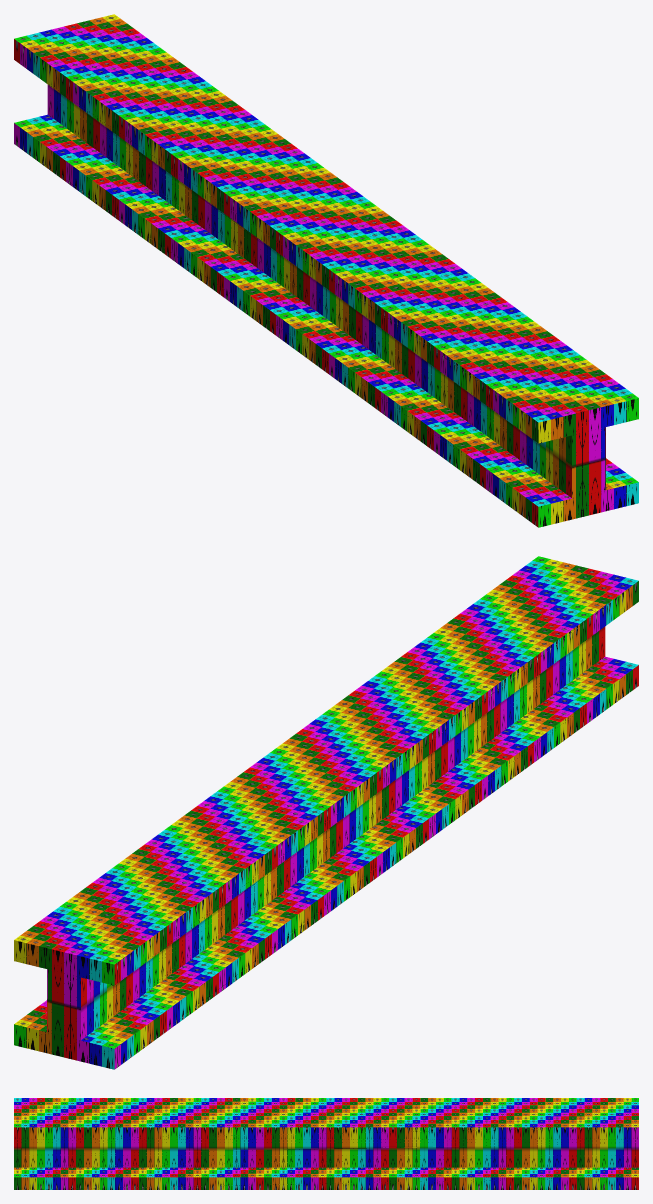
Rendered from rail.FBX.
3 views of the same model, one above another, from view 1: azimuth 30°, elevation 25°; view 2: azimuth 150°, elevation 25°; view 3: azimuth 270°, elevation 25° (orthographic). The views are drawn at different scales.
Visible parts, largest first — view 1: Box010; view 2: Box010; view 3: Box010.
Part boxes in pixels (left/top/right/bottom): Box010: left=14, top=14, right=638, bottom=527; Box010: left=14, top=556, right=638, bottom=1069; Box010: left=14, top=1098, right=638, bottom=1189.
Bounding box in the file's own units: 10 × 10 × 90.36.
Materials: 1 (1 with a texture image).
